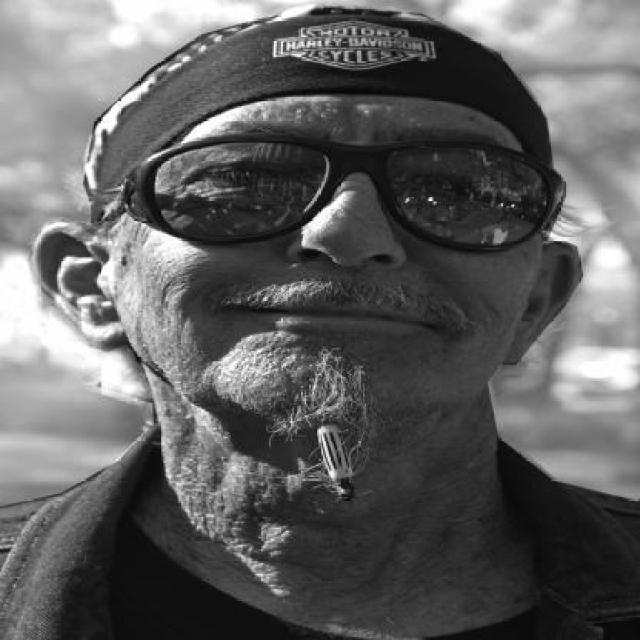face_nomask: (156, 137, 526, 365)
glasses: (141, 121, 565, 242)
head_nohelmet: (72, 1, 559, 134)
